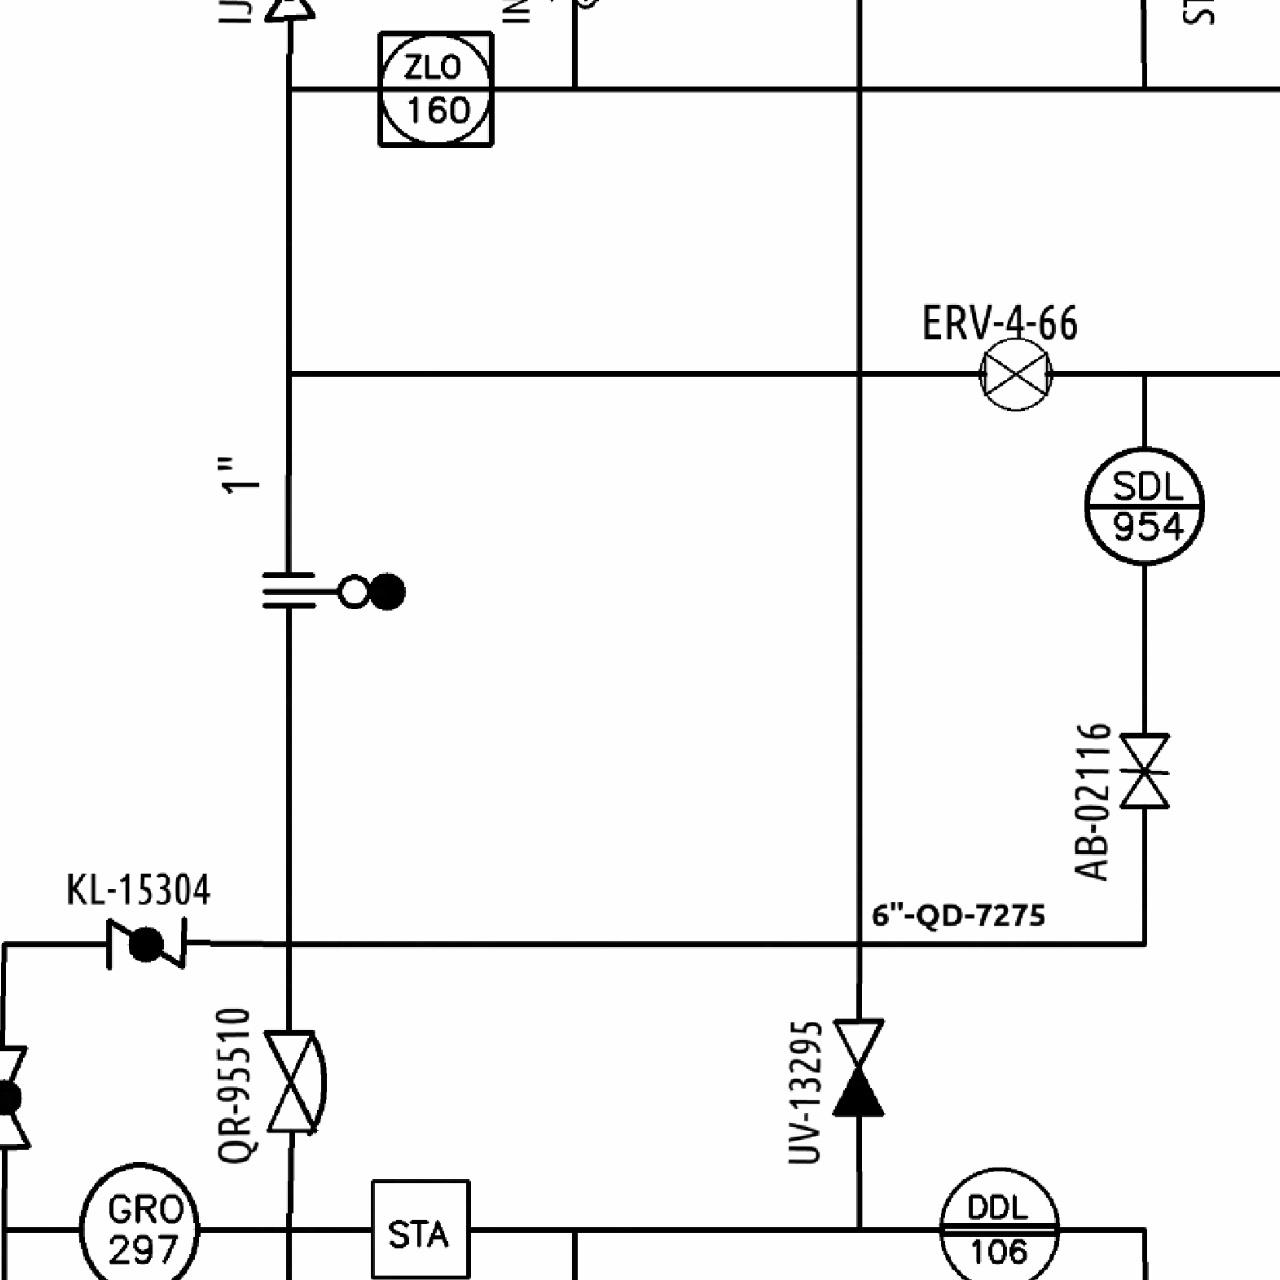Half closed valve: (828, 1013, 888, 1119)
